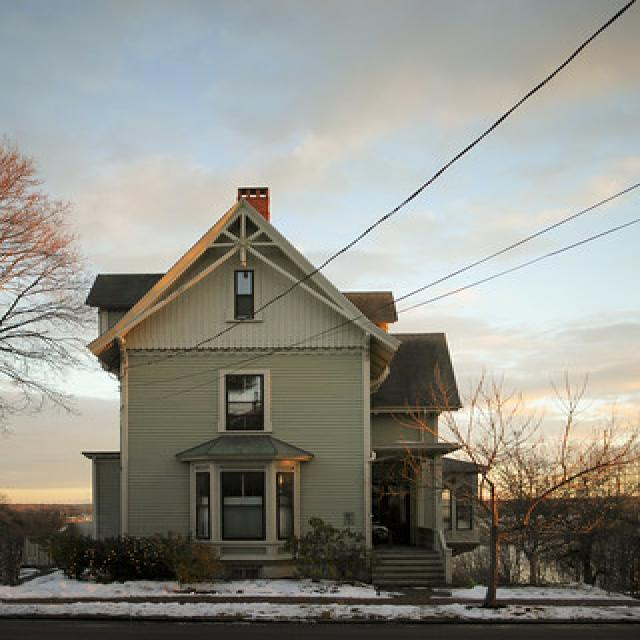Normal_building: (78, 198, 494, 592)
